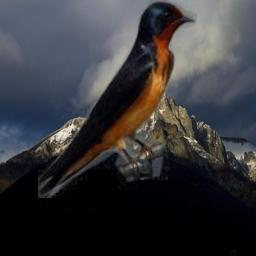Swallow: (38, 0, 197, 198)
